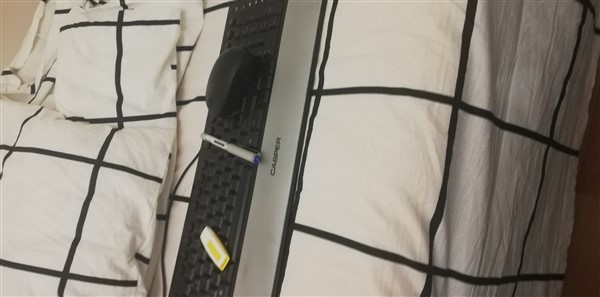flash disk: (197, 222, 233, 275)
klavye: (174, 1, 316, 297)
mouse: (200, 45, 258, 123)
pilot kalem: (198, 131, 272, 170)
